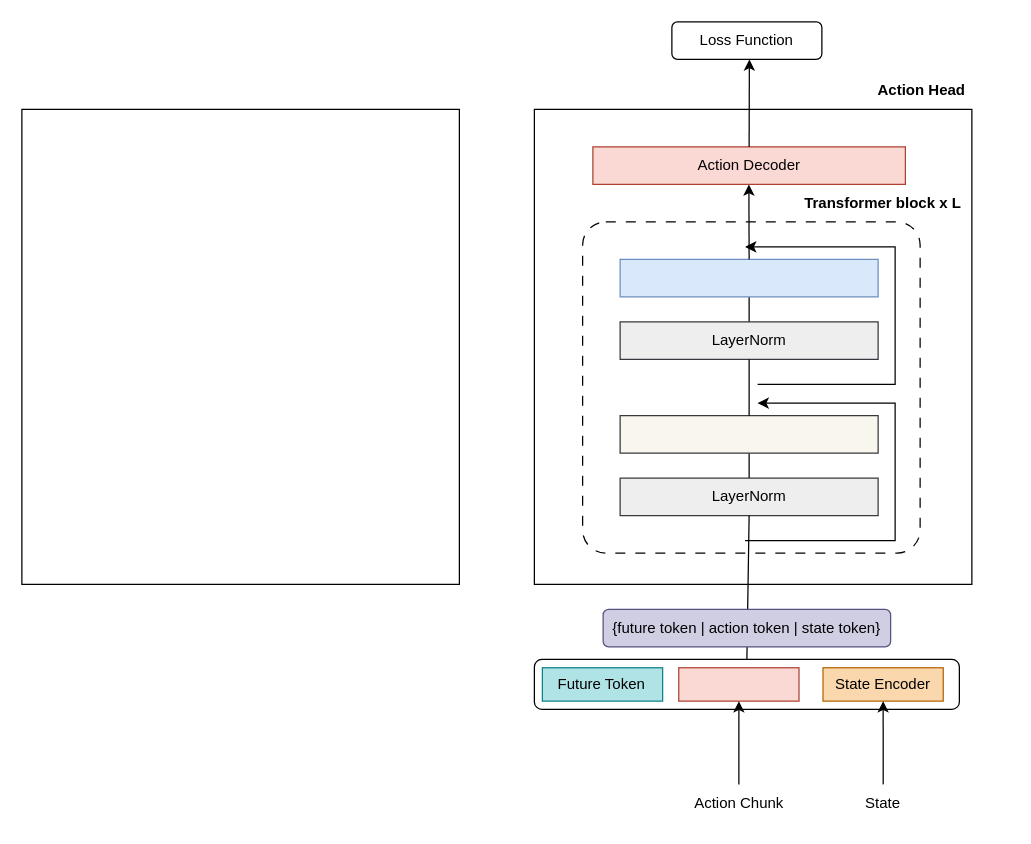
This 1031x844 diagram has some shape labels left out. The centre of each missing label's shape, as x and y in pixels:
"Action Encoder" belongs at point 738,683.
"MLP" belongs at point 748,277.
"Self / Cross Attention" belongs at point 748,433.
